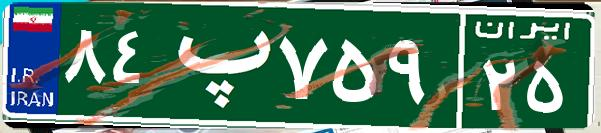2: (475, 38, 525, 113)
4: (110, 28, 158, 105)
5: (330, 28, 385, 110), (525, 38, 570, 115)
7: (273, 28, 330, 110)
8: (57, 26, 110, 107)
9: (385, 28, 445, 110)
پ: (158, 15, 273, 115)
